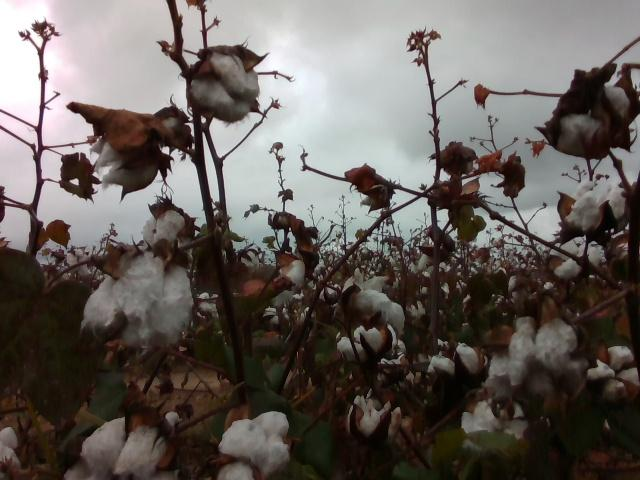cotton_ready: (79, 252, 195, 352), (487, 312, 589, 401), (67, 414, 180, 480), (559, 83, 634, 160), (187, 49, 262, 122), (216, 410, 290, 480), (91, 127, 160, 194), (565, 179, 628, 234), (588, 347, 640, 405), (347, 288, 410, 334), (349, 391, 405, 442), (462, 401, 535, 440), (426, 341, 482, 385), (337, 324, 397, 365), (139, 211, 195, 252), (270, 259, 304, 307), (553, 251, 603, 279), (0, 427, 20, 480), (153, 111, 186, 143)
